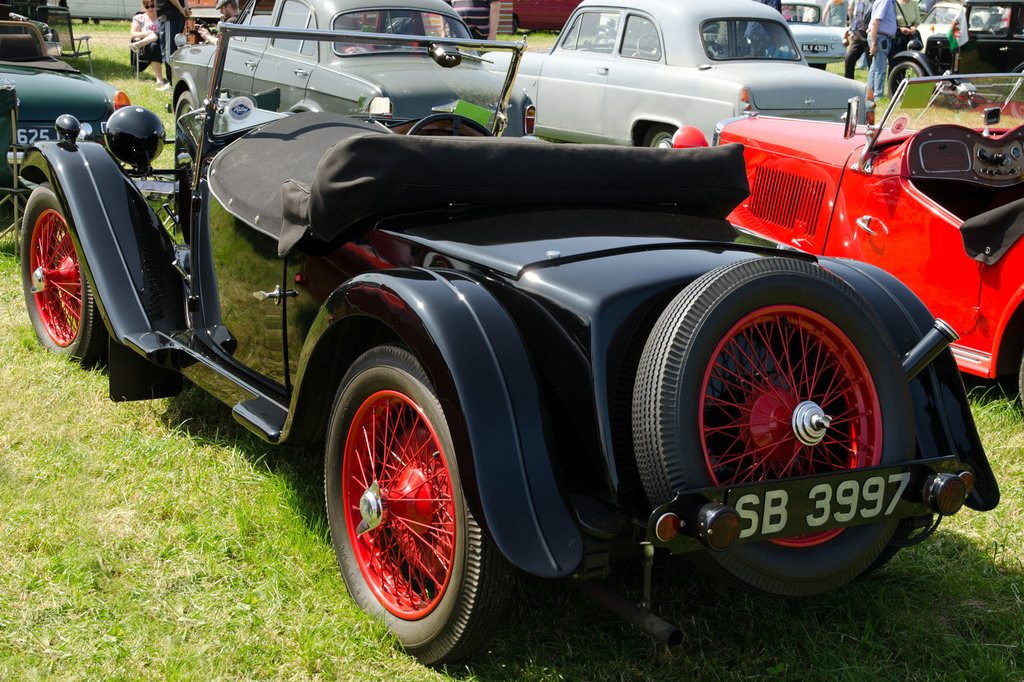Car: (0, 0, 1023, 659)
